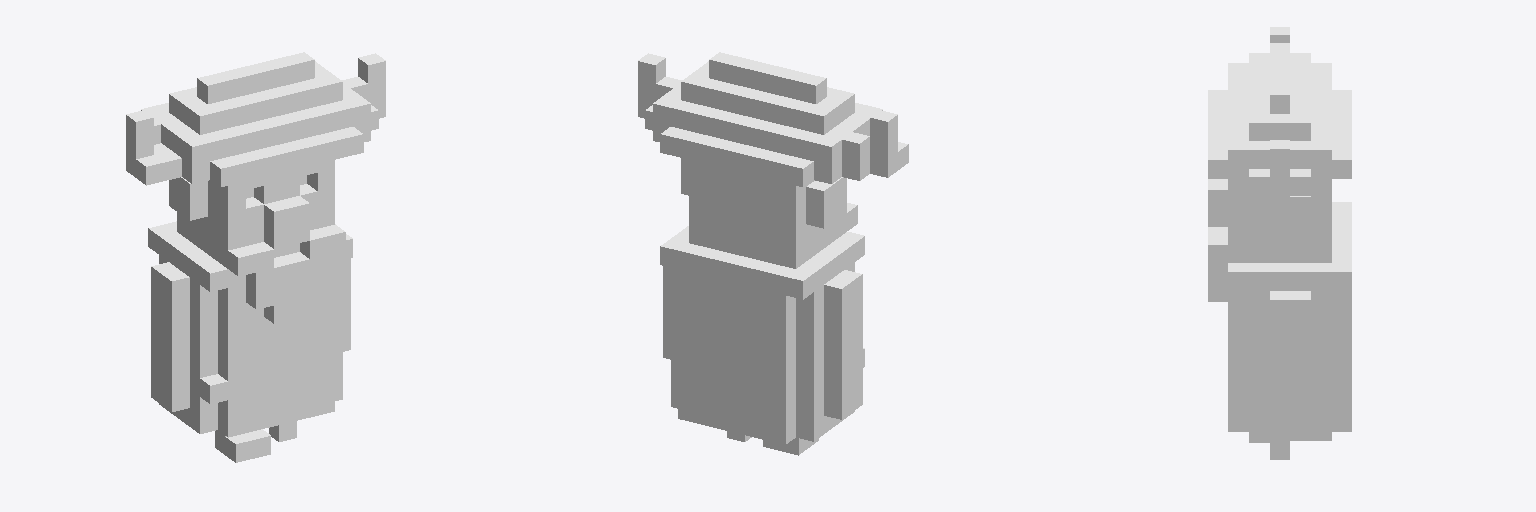
Rendered from pirate.obj.
The picture shows the model from 3 angles: view 1: azimuth 30°, elevation 25°; view 2: azimuth 150°, elevation 25°; view 3: azimuth 270°, elevation 25°; orthographic projection.
Bounding box in the file's own units: 14 × 20 × 7.